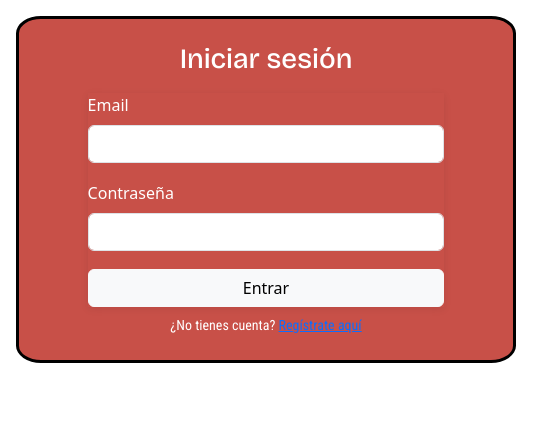
Scenario: Login Page › muestra error con credenciales incorrectas
The width and height of the screenshot is (533, 448).
In the field labelled "Email": coordinates (266, 144) [88, 125, 444, 163], type "entrenador@duoc.cl"
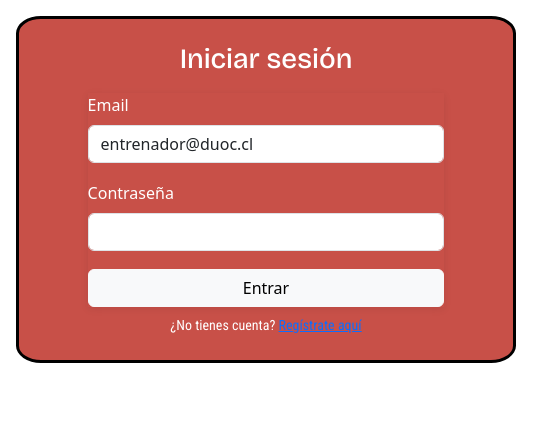
In the password field labelled "Contraseña": coordinates (266, 232) [88, 213, 444, 251], type "incorrecta"
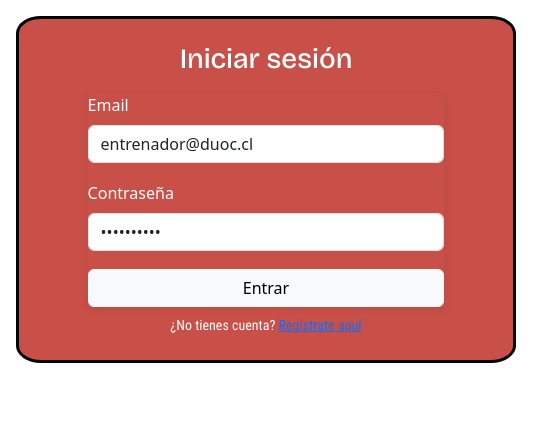
Click the button "Entrar": coordinates (266, 288) [88, 269, 444, 307]
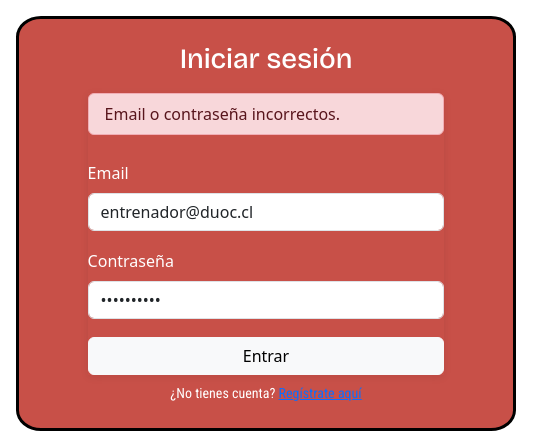
Check: the text "Email o contraseña incorrectos." is shown, box [88, 93, 444, 135]
